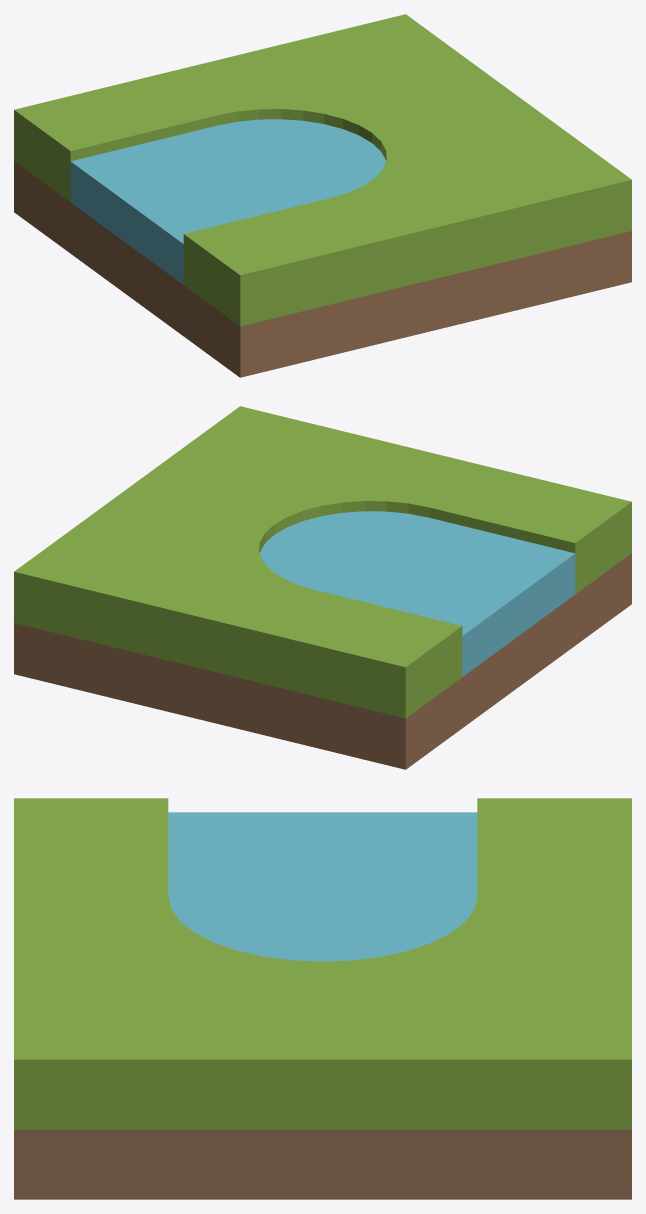
File: river-end-low.obj
3 views of the same model, one above another, from view 1: azimuth 30°, elevation 25°; view 2: azimuth 150°, elevation 25°; view 3: azimuth 270°, elevation 25° (orthographic). The views are drawn at different scales.
Visible parts, largest first — view 1: river-end-low_Cube.559; view 2: river-end-low_Cube.559; view 3: river-end-low_Cube.559.
Boxes of the visible parts, x1,y1,x2,y2 form: river-end-low_Cube.559: (14, 14, 631, 377); river-end-low_Cube.559: (14, 406, 631, 769); river-end-low_Cube.559: (14, 798, 631, 1199).
Bounding box in the file's own units: 8 × 2 × 8.
Materials: 1 (1 with a texture image).
